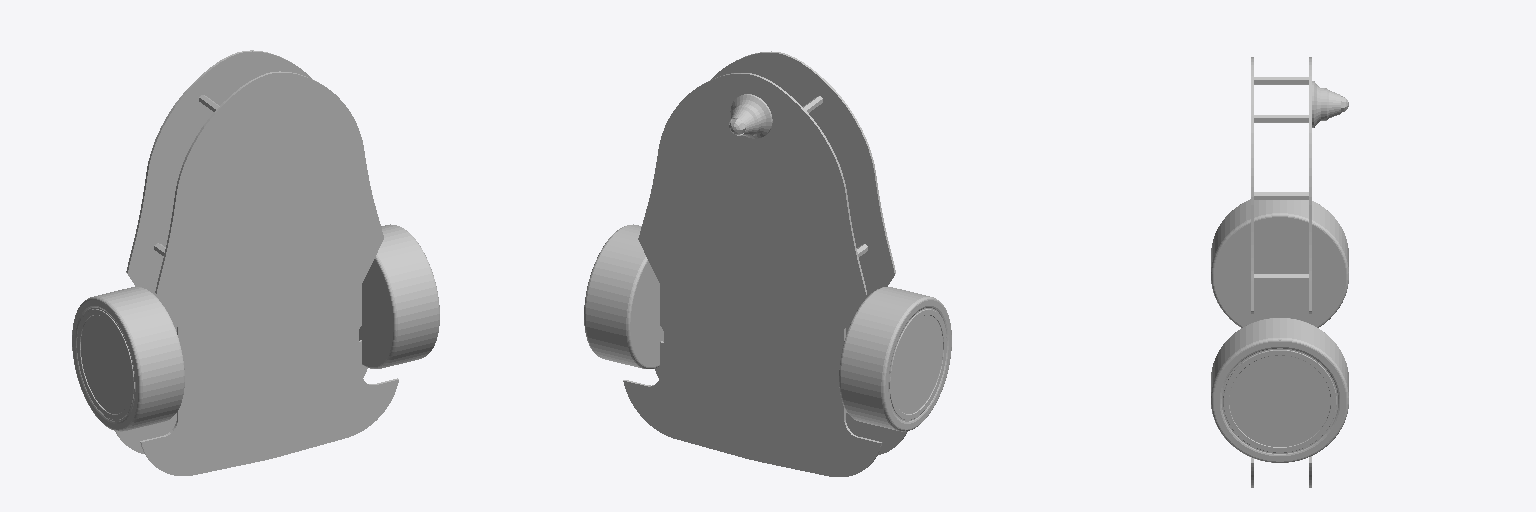
File: alpha bot.obj
3 views of the same model, side by side, from view 1: azimuth 30°, elevation 25°; view 2: azimuth 150°, elevation 25°; view 3: azimuth 270°, elevation 25° (orthographic).
Parts seen in each view (by area): view 1: Circle; view 2: Circle; view 3: Circle.
Boxes of the visible parts, <box> form: Circle: <box>72,50,439,475</box>; Circle: <box>584,51,951,476</box>; Circle: <box>1211,57,1348,487</box>.
Bounding box in the file's own units: 0.1634 × 0.1997 × 0.0649.